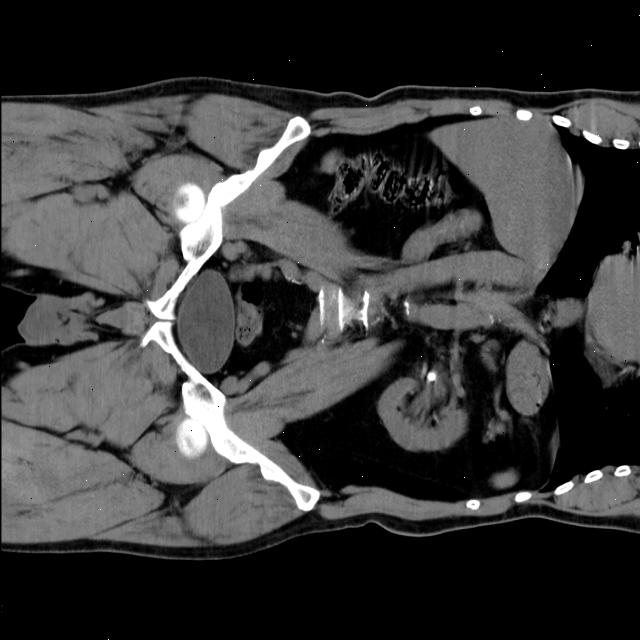kidneystone: (425, 369, 436, 383)
